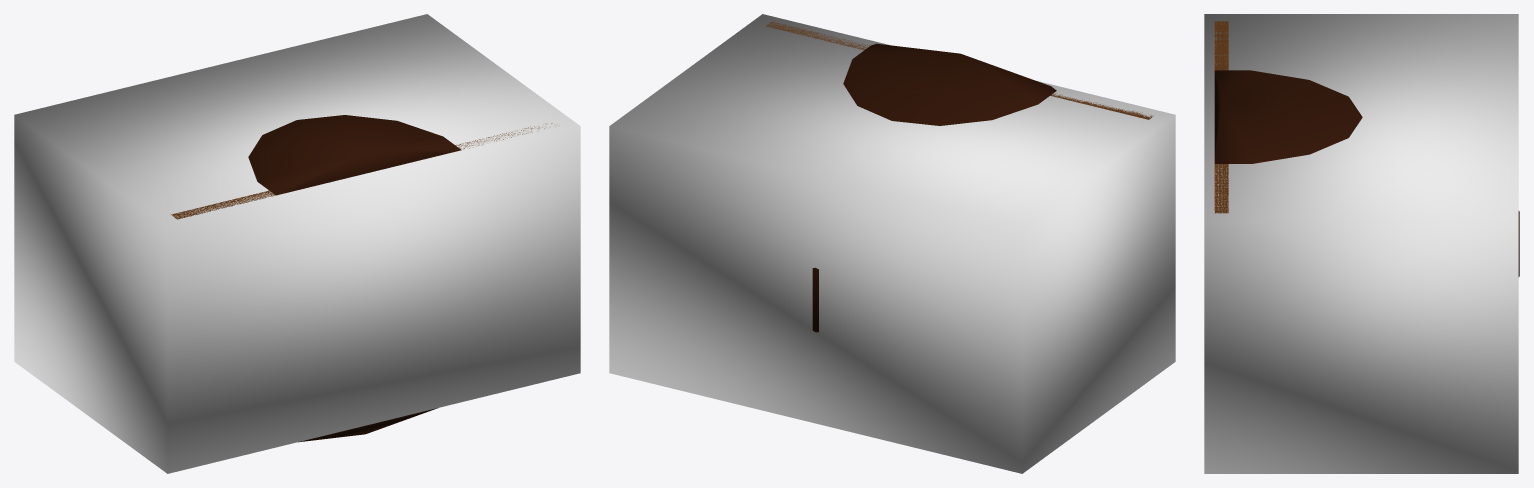
The model's file is pan.glb.
3 views of the same model, side by side, from view 1: azimuth 30°, elevation 25°; view 2: azimuth 150°, elevation 25°; view 3: azimuth 270°, elevation 25° (orthographic). The views are drawn at different scales.
Visible parts, largest first — view 1: pan-colcaja, pan; view 2: pan-colcaja, pan; view 3: pan-colcaja, pan.
Boxes of the visible parts, <box> form: pan-colcaja: <box>14,14,580,473</box>; pan: <box>171,115,556,442</box>; pan-colcaja: <box>609,14,1175,473</box>; pan: <box>766,21,1152,332</box>; pan-colcaja: <box>1204,14,1518,473</box>; pan: <box>1214,21,1519,276</box>.
Bounding box in the file's own units: 0.14 × 0.091 × 0.0903.
